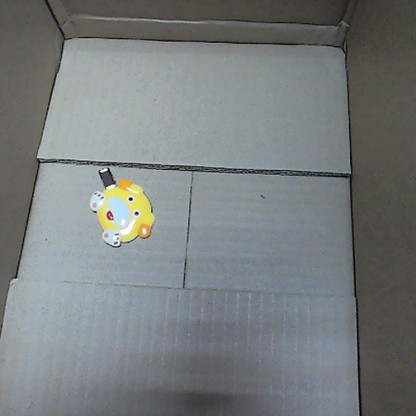dogclip: (86, 163, 155, 248)
